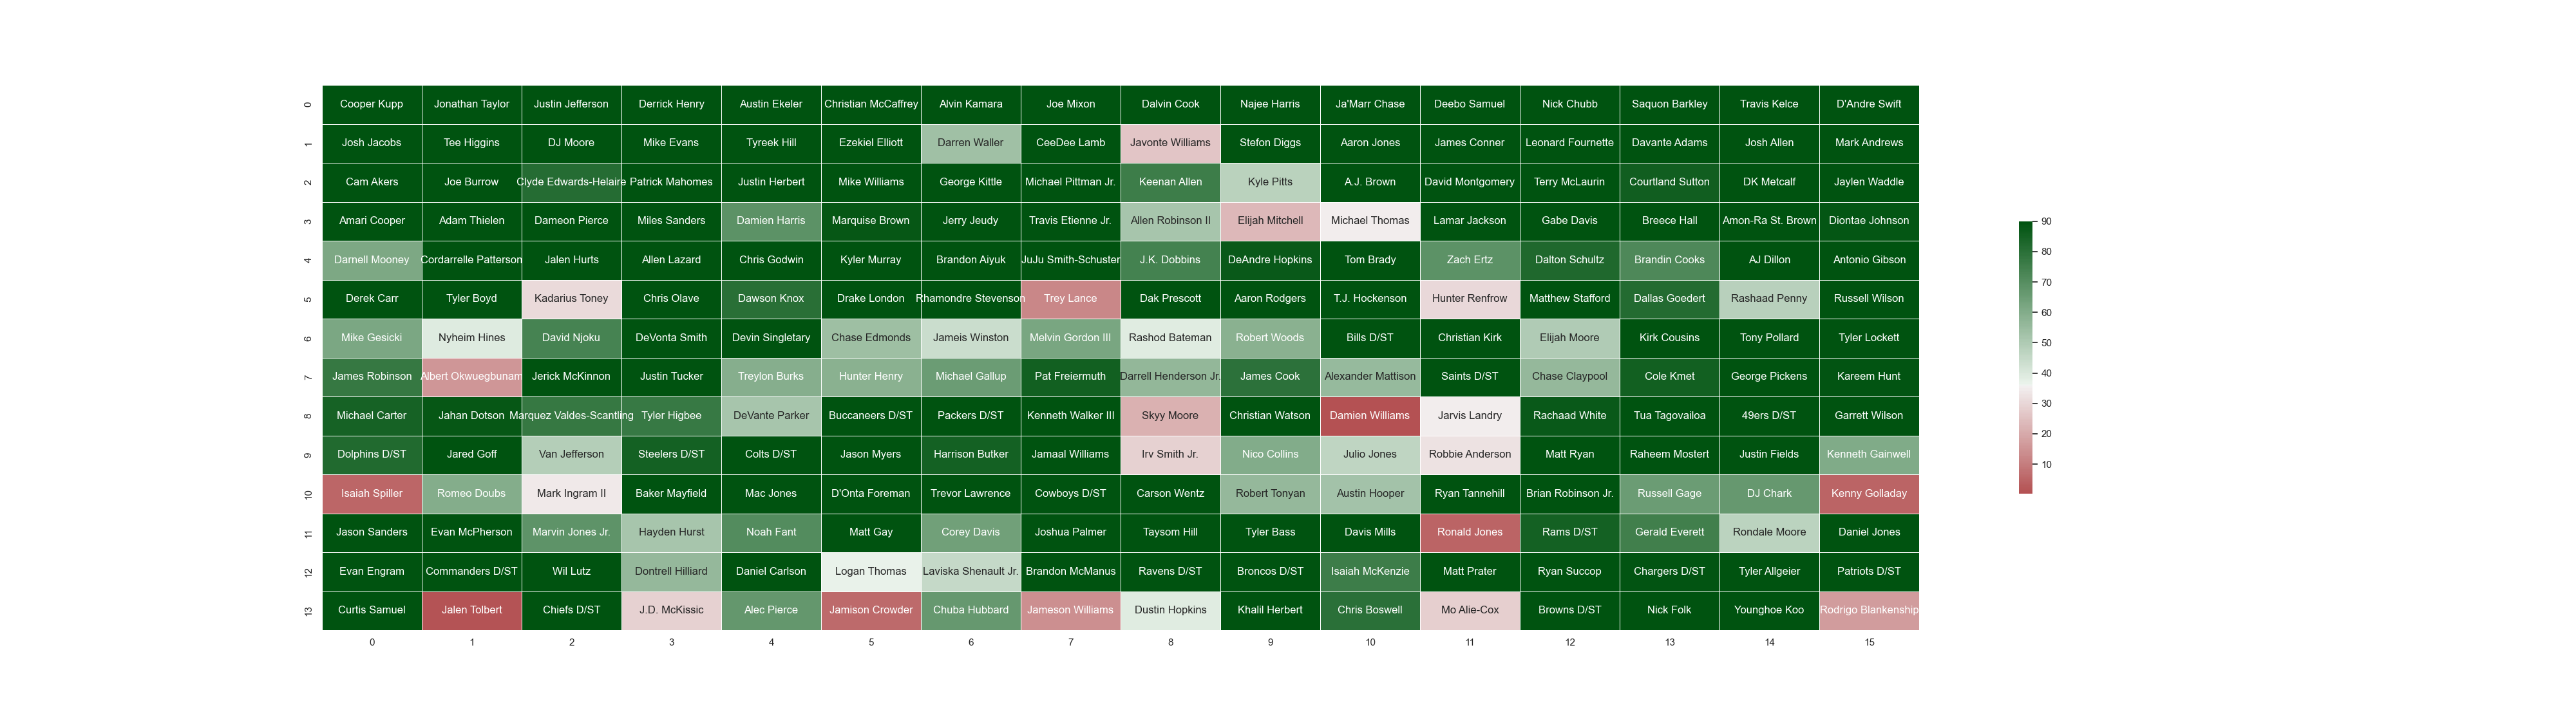

What the dashboard file says about the page in this screenshot:
{"tool":"powerbi","page":{"name":"Page 3","canvas":[1280,720],"ordinal":2},"visuals":[{"type":"pivotTable","fields":{"Rows":["Query1.round","Query1.playername"],"Columns":["Query1.pick"],"Values":["Sum(Query1.total)"]},"box":[0,0,1280,720],"z":1}]}

Visuals, with their boxes on the page's 1280x720 design canvas (x1, y1, x2, y2). These are canvas units, not pixel positions in the 2576x708 screenshot, which may show the page scaled, cropped or inside an application window:
pivotTable - Query1.round x Query1.playername: {"x1": 0, "y1": 0, "x2": 1280, "y2": 720}
